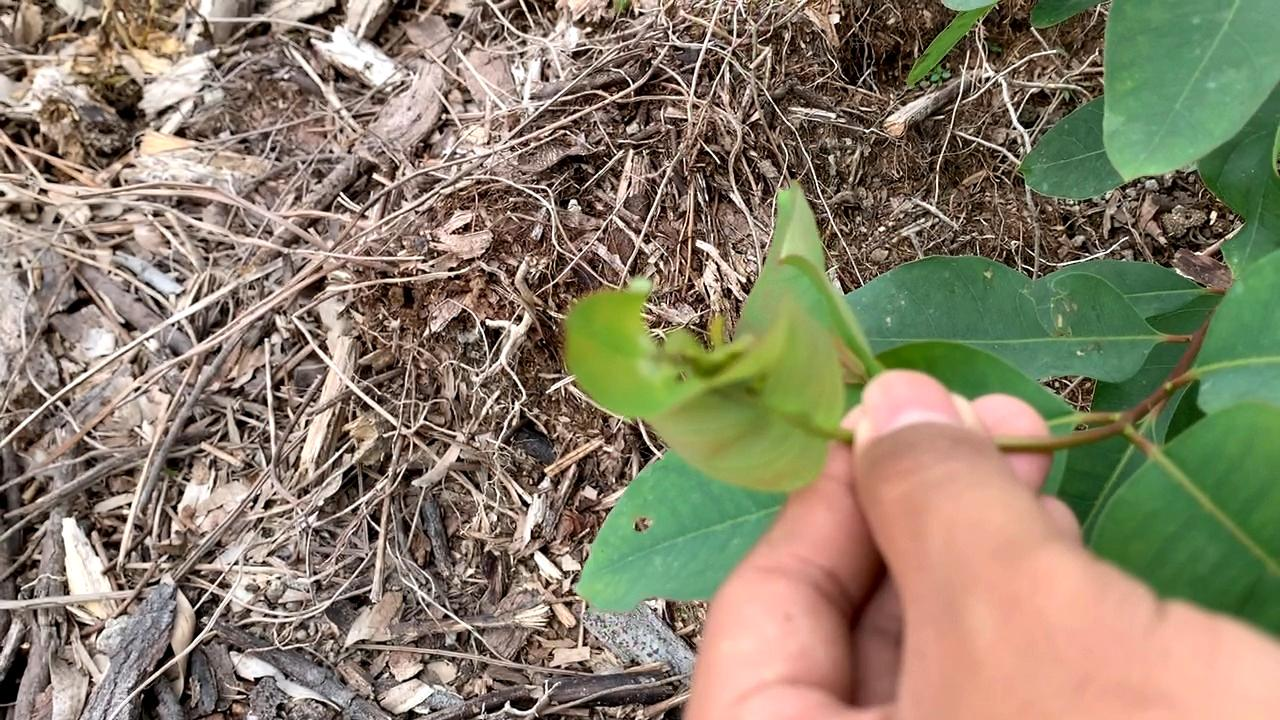Leaf Roller - Leaf: (570, 274, 845, 506)
